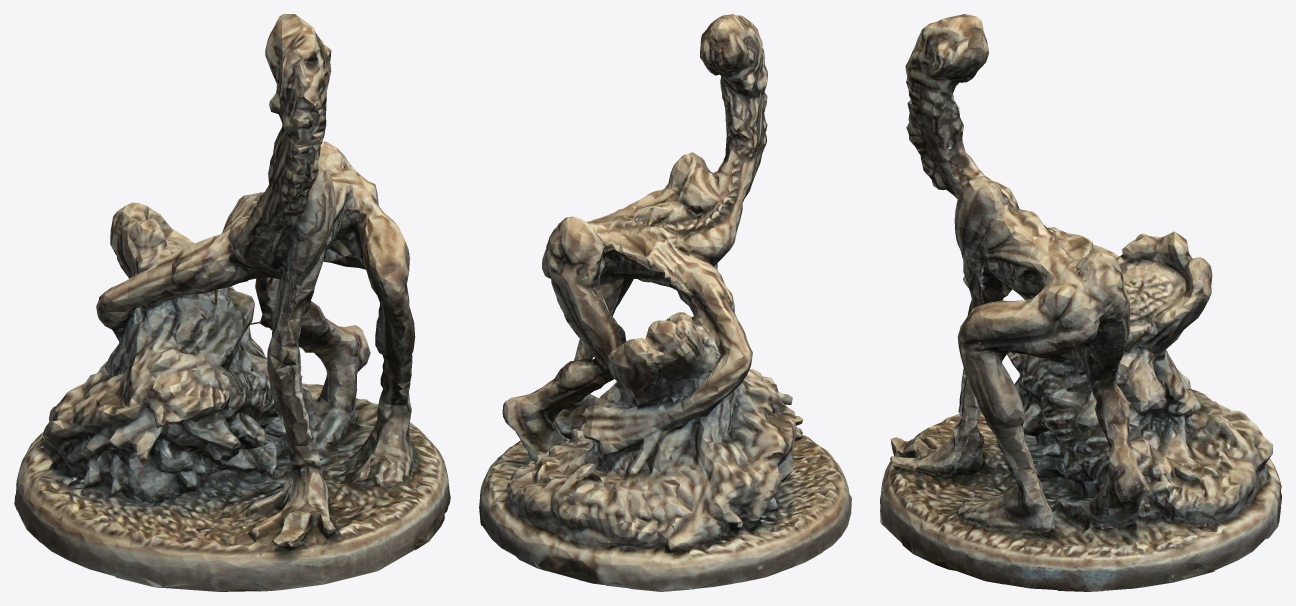
The model's file is warped_one.glb.
3 renders of one model, left to right at view 1: azimuth 30°, elevation 25°; view 2: azimuth 150°, elevation 25°; view 3: azimuth 270°, elevation 25°, orthographic. The views are drawn at different scales.
Parts seen in each view (by area): view 1: geometry_0; view 2: geometry_0; view 3: geometry_0.
Part boxes in pixels (x1,y1,x2,y2): geometry_0: (14,14,450,591); geometry_0: (479,14,851,591); geometry_0: (880,14,1281,591).
Size of the model in its own units: 0.0178 by 0.0239 by 0.0178.
Materials: 1 (1 with a texture image).
